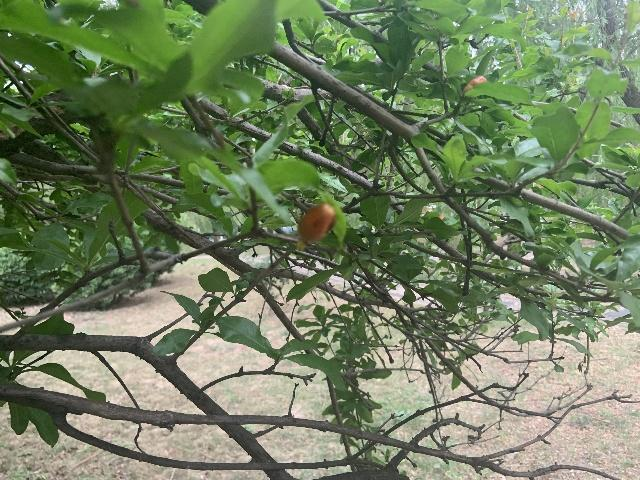bud: (298, 202, 336, 243), (463, 76, 486, 92)
